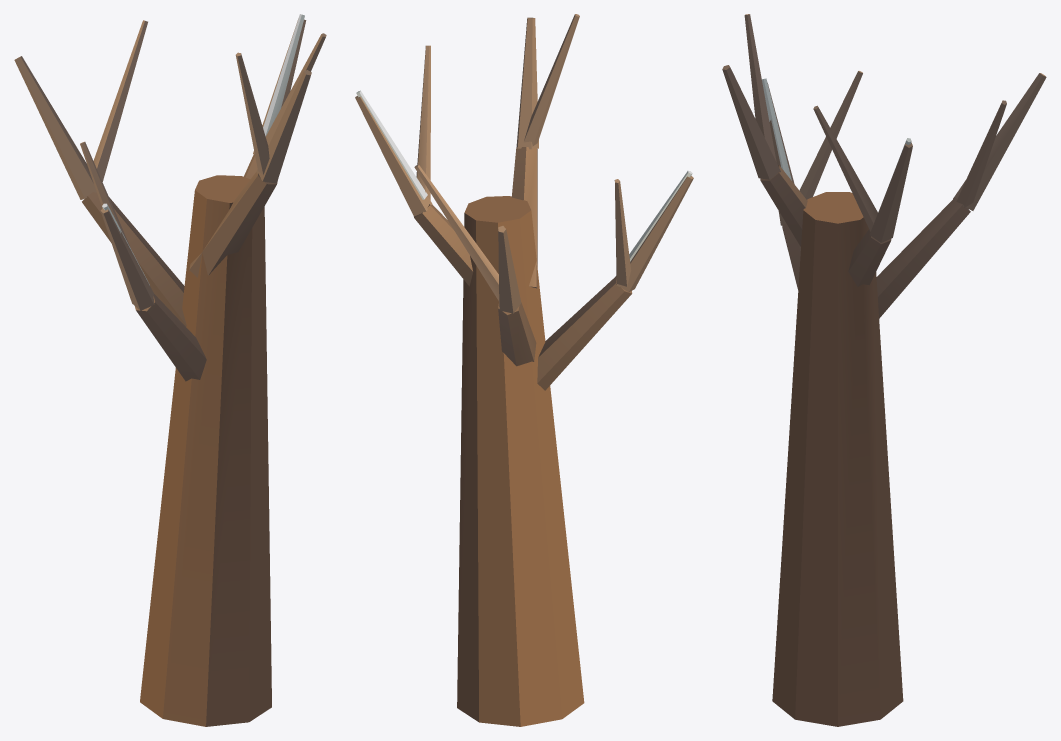
File: forage_6_winter.glb
The picture shows the model from 3 angles, left to right: view 1: azimuth 30°, elevation 25°; view 2: azimuth 150°, elevation 25°; view 3: azimuth 270°, elevation 25°; orthographic projection. The views are drawn at different scales.
Parts seen in each view (by area): view 1: Rohstoff 6 · winter; view 2: Rohstoff 6 · winter; view 3: Rohstoff 6 · winter.
Part boxes in pixels (box(x1,y1,x2,y2)): Rohstoff 6 · winter: box(14, 14, 326, 726); Rohstoff 6 · winter: box(355, 14, 693, 726); Rohstoff 6 · winter: box(722, 14, 1046, 726).
Size of the model in its own units: 1.29 by 3.04 by 1.32.
